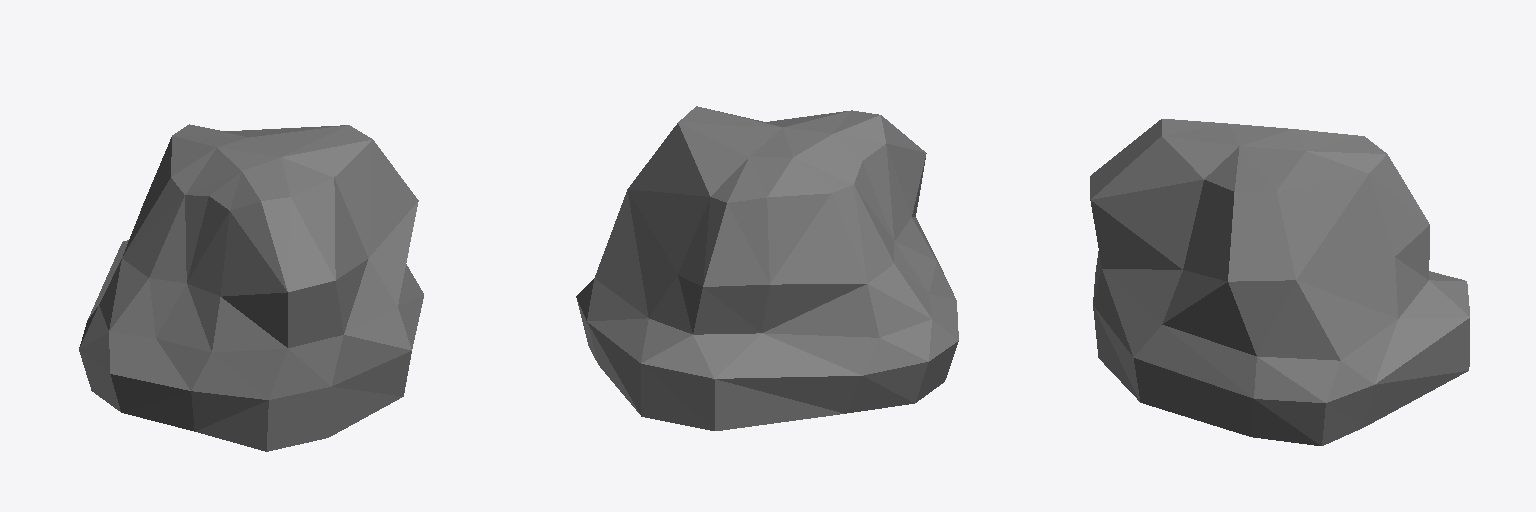
The model's file is rock4.obj.
3 views of the same model, side by side, from view 1: azimuth 30°, elevation 25°; view 2: azimuth 150°, elevation 25°; view 3: azimuth 270°, elevation 25° (orthographic).
Visible parts, largest first — view 1: Rock_4_Cube.025; view 2: Rock_4_Cube.025; view 3: Rock_4_Cube.025.
Boxes of the visible parts, <box> form: Rock_4_Cube.025: <box>79,124,423,451</box>; Rock_4_Cube.025: <box>576,106,958,430</box>; Rock_4_Cube.025: <box>1090,119,1469,445</box>.
Bounding box in the file's own units: 2.04 × 1.31 × 1.99.